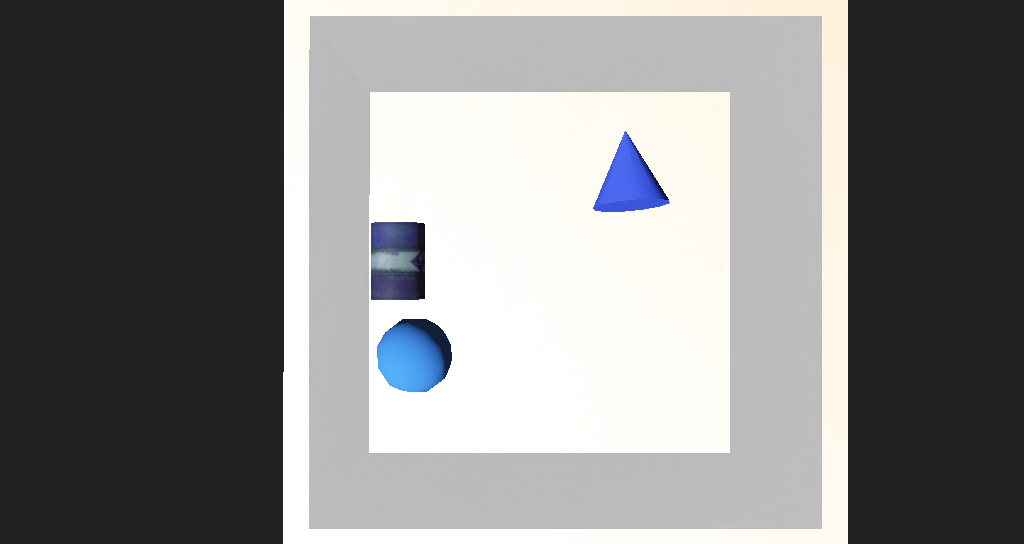cone: (350, 241, 404, 284)
cylinder: (539, 177, 606, 234)
sphere: (357, 298, 424, 341)
